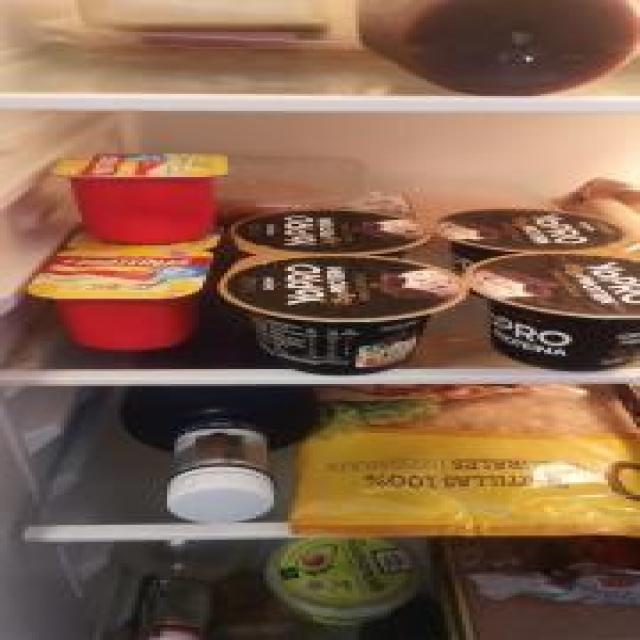guacamole: (258, 539, 428, 628)
yogurt: (220, 256, 470, 378), (466, 248, 636, 374), (25, 247, 217, 352), (53, 152, 235, 246)
